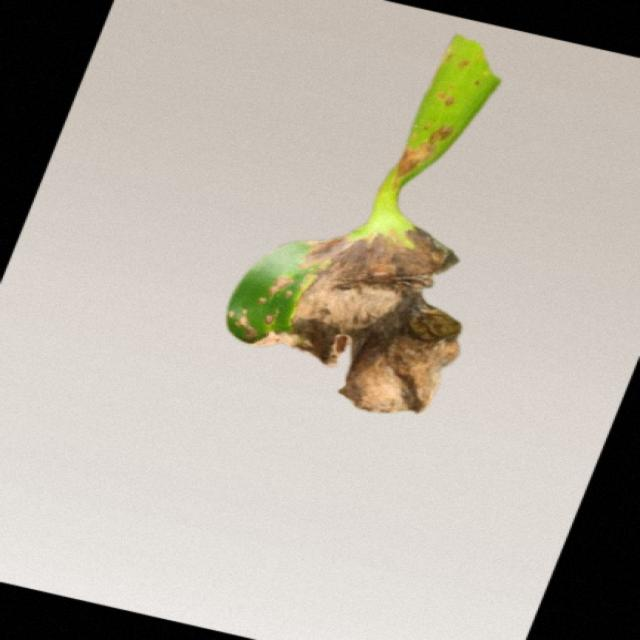daun berpenyakit karat: (230, 36, 495, 412)
